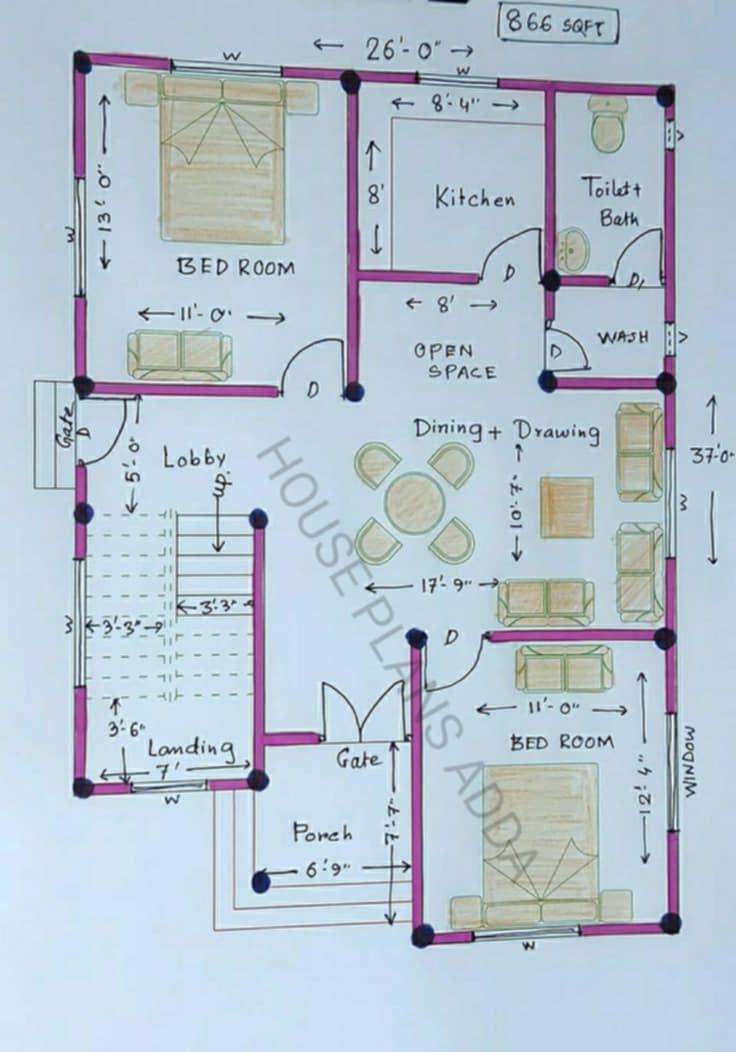Blueprint: (52, 36, 698, 951)
